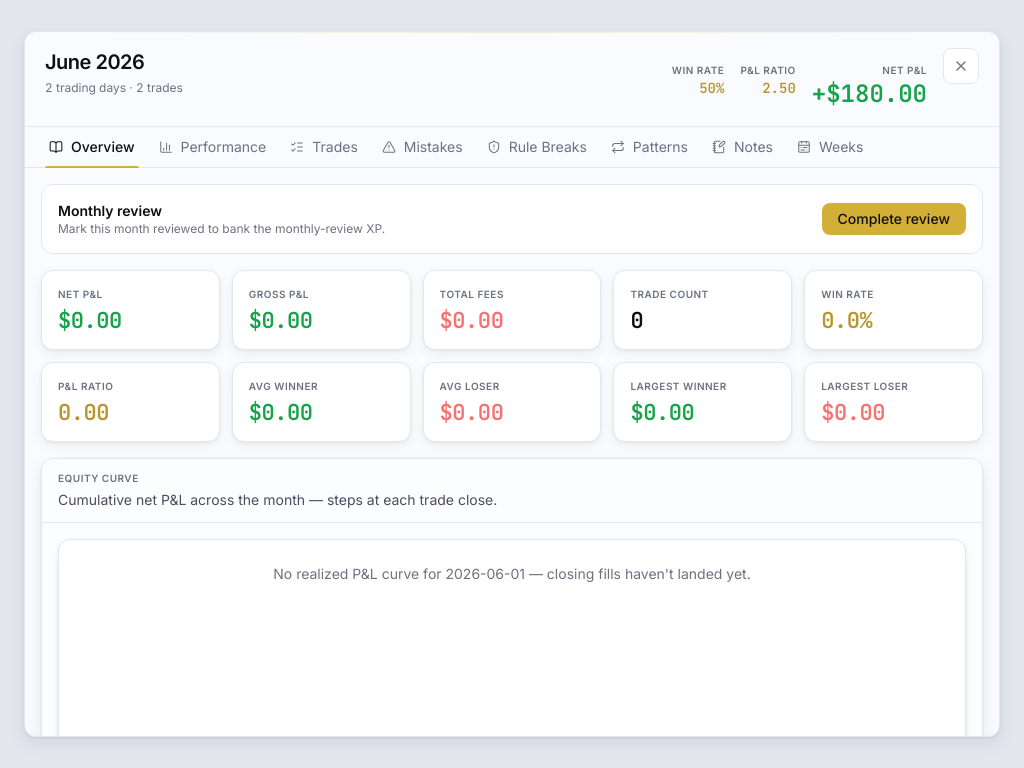
Test: AM the weeks ladder › AM2 each row shows its clipped label, day count, trades, net and win rate
The image size is (1024, 768).
Expected: the heading with id "month-review-title" reads "June 2026", [45,50,144,74]
Click the tab "Weeks": (830, 147) [785,127,875,167]
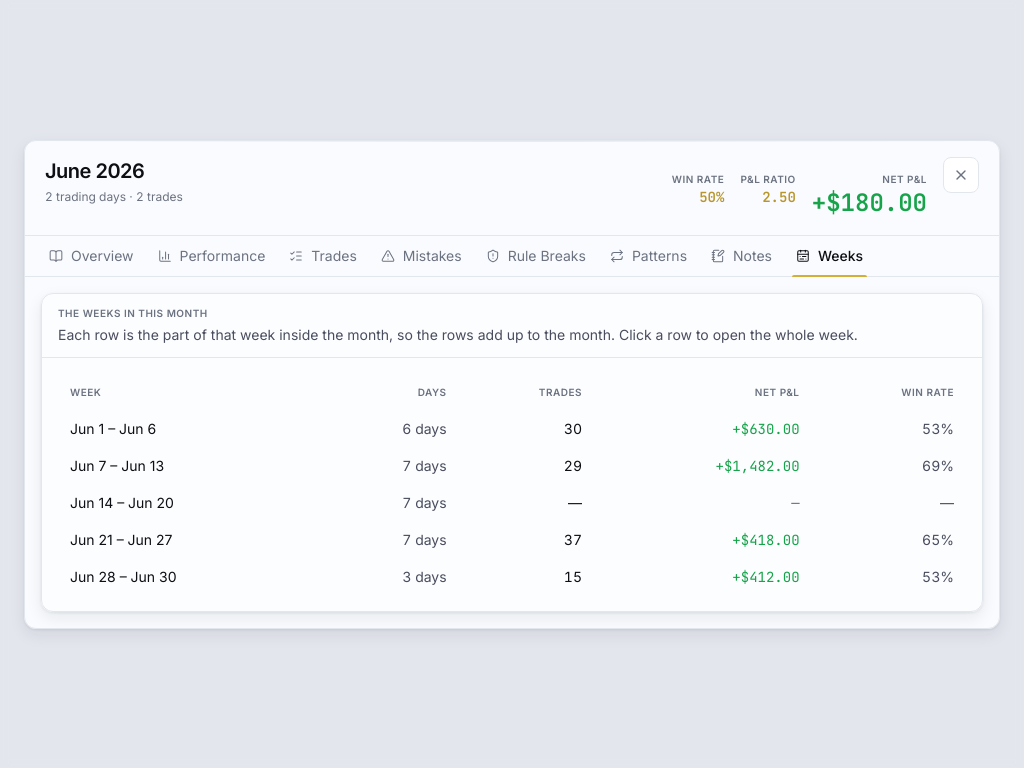
Now the table is shown, box [58,374,966,594]
Now the row "Jun 7 – Jun 13 7 days 29 +$1,482.00 69%" is shown, box [58,447,966,484]
